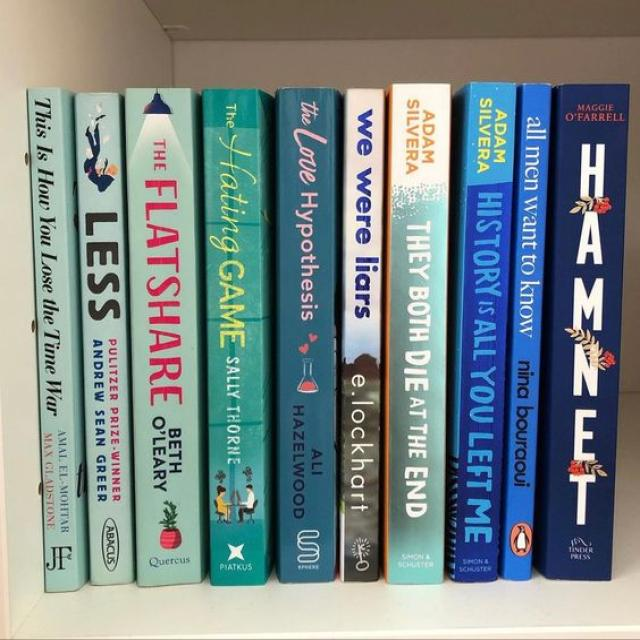book: (534, 83, 628, 579), (125, 88, 203, 585), (446, 82, 516, 580), (204, 89, 272, 585), (276, 88, 342, 581), (384, 83, 449, 582), (28, 88, 87, 591), (74, 93, 134, 585), (498, 83, 549, 579), (339, 89, 385, 580)
